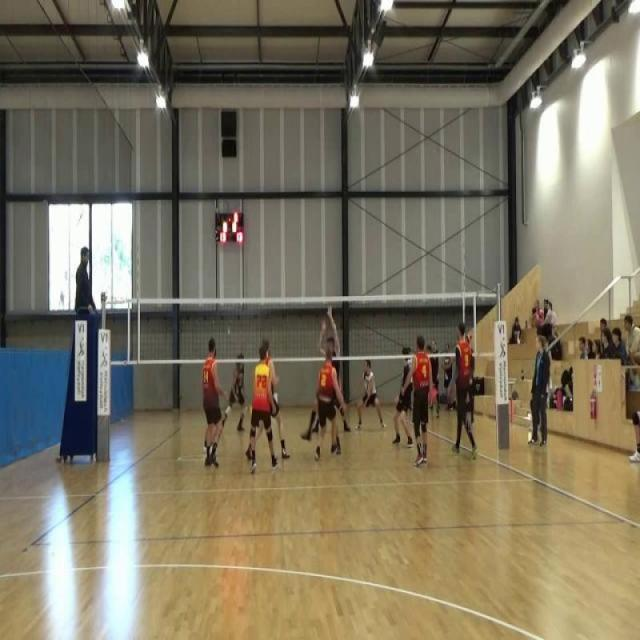volleyball: (248, 404, 253, 416)
